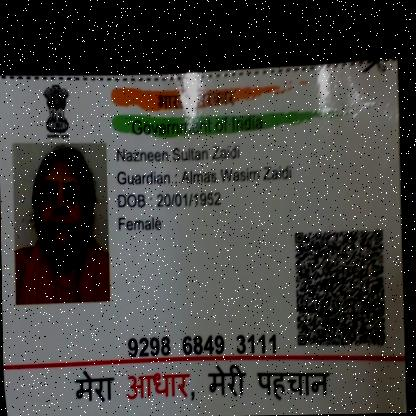aadhaar_card: (0, 59, 408, 415)
